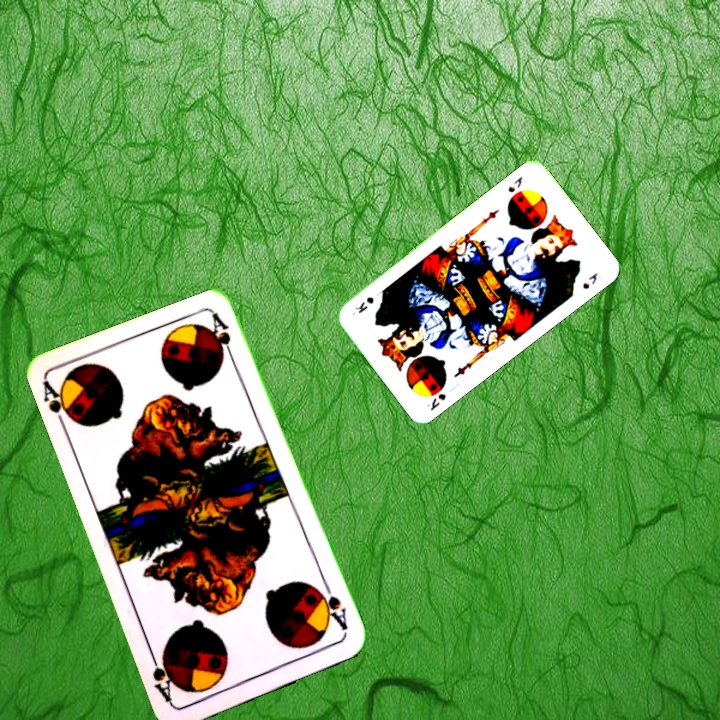SA: (38, 377, 80, 434), (313, 581, 351, 638)
SK: (423, 389, 449, 414), (504, 172, 525, 195)
